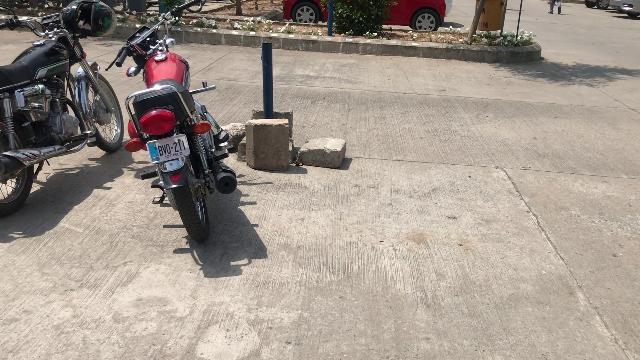plate: (145, 133, 191, 165)
